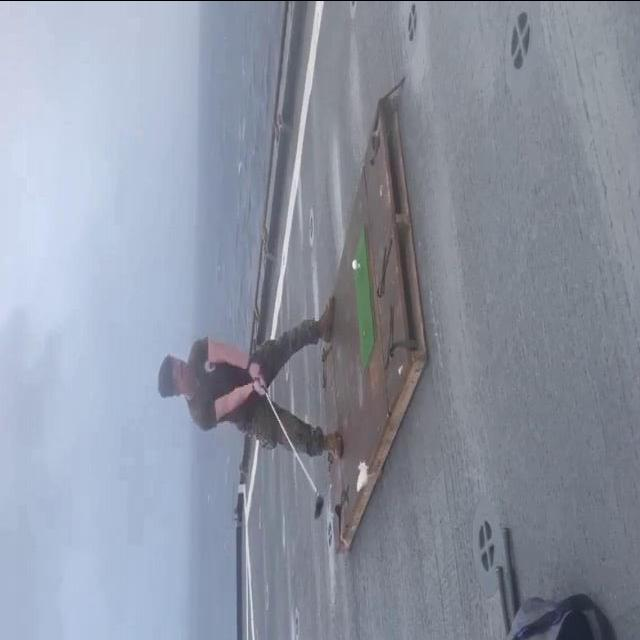ClubHandle: (264, 387, 324, 518)
ClubHead: (315, 495, 324, 519)
GolfBall: (352, 259, 357, 269)
